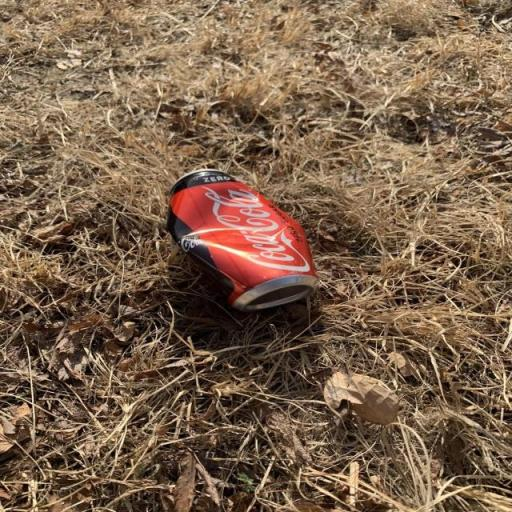metal: (146, 162, 340, 330)
